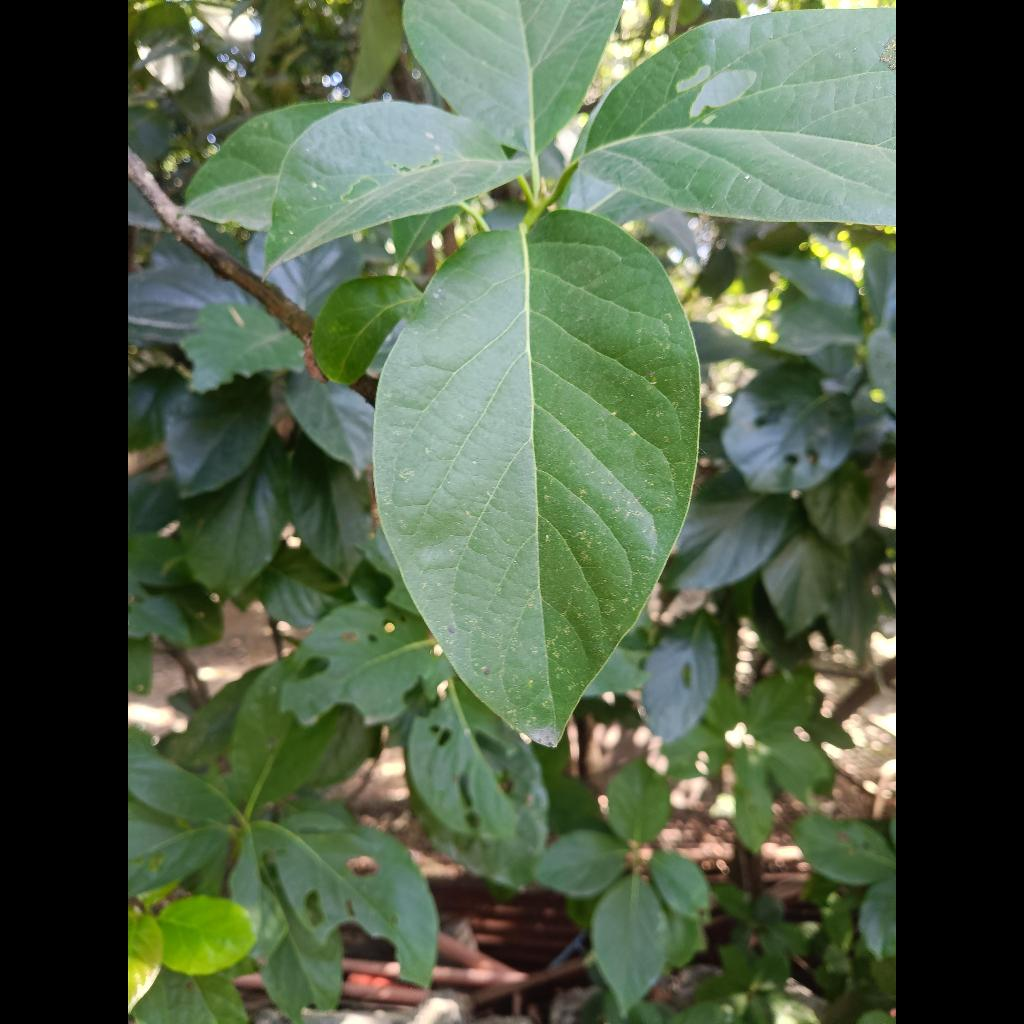hoja_sana: (374, 210, 698, 745)
